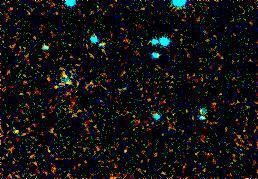star: (112, 142, 142, 172)
